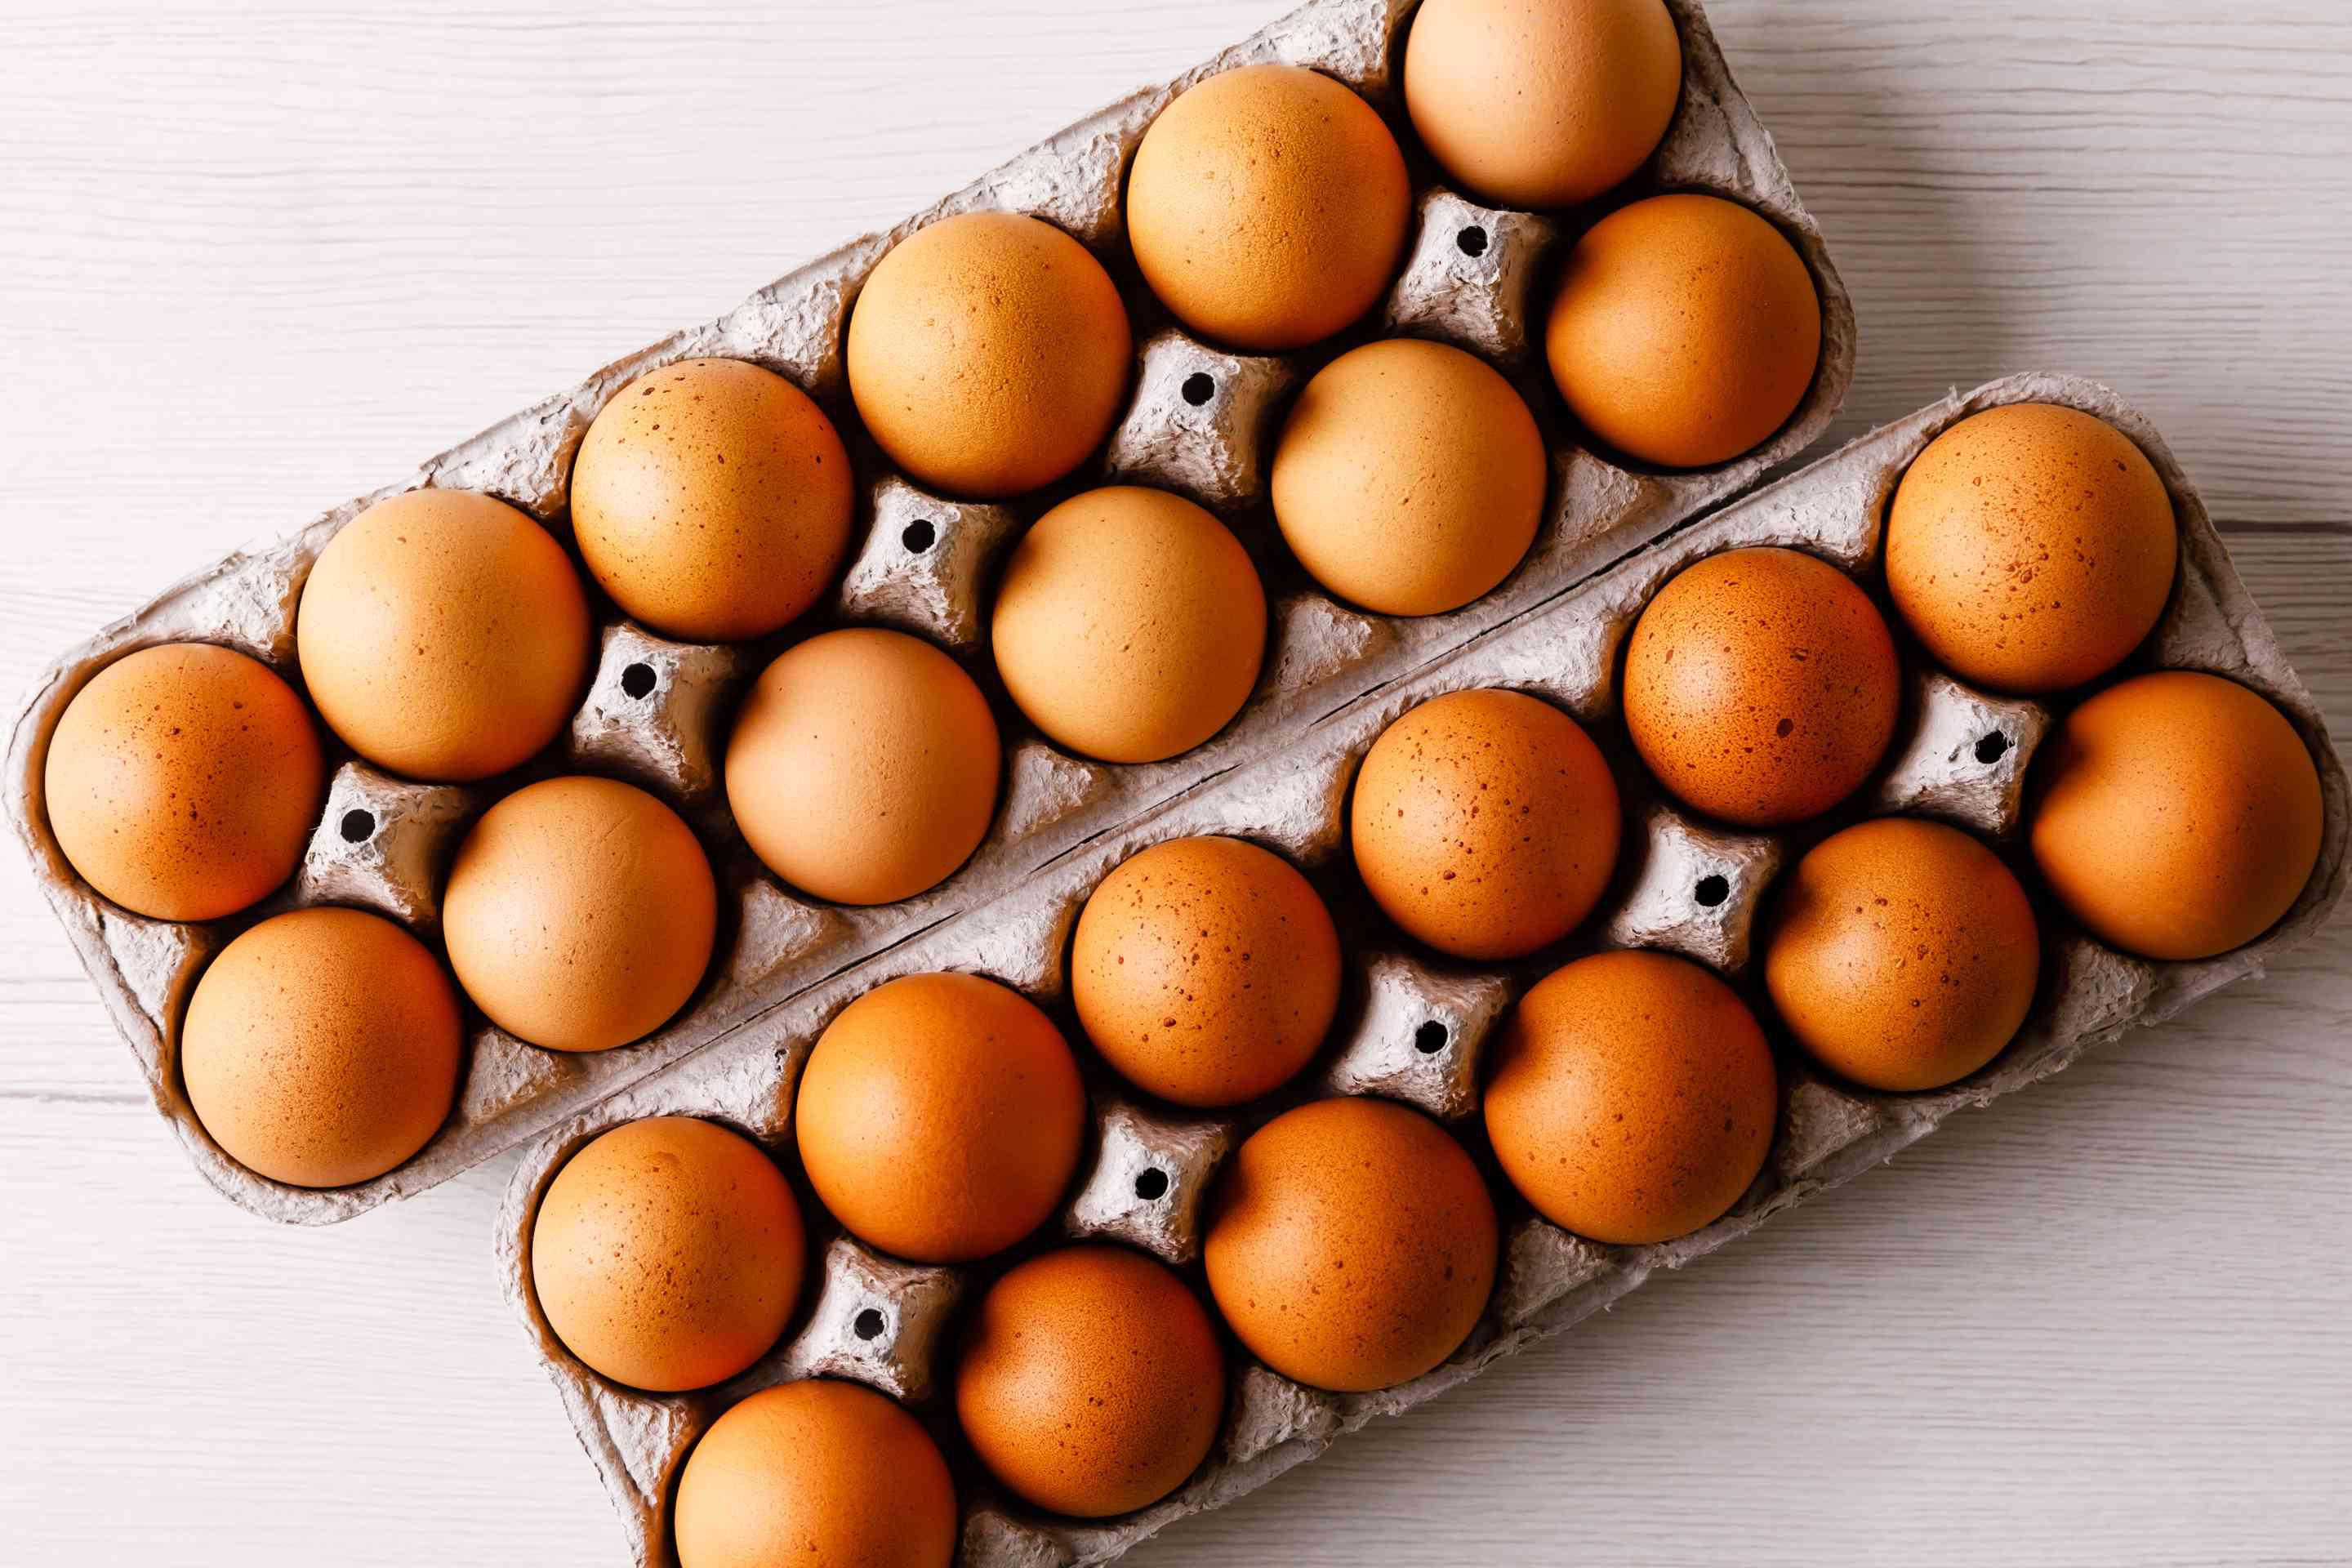egg: (154, 878, 478, 1207), (399, 747, 723, 1066), (1106, 47, 1433, 362), (290, 469, 604, 798), (500, 1101, 828, 1412), (2016, 647, 2329, 971), (775, 961, 1094, 1277), (1192, 1087, 1503, 1407), (686, 611, 1010, 915), (1598, 535, 1914, 845), (1475, 941, 1792, 1249), (555, 343, 871, 651), (16, 625, 332, 927), (1871, 392, 2182, 698), (1255, 318, 1559, 626), (1755, 796, 2049, 1108), (836, 203, 1137, 506), (1542, 171, 1830, 485), (975, 471, 1274, 772), (933, 1227, 1227, 1531), (1052, 824, 1346, 1120), (1335, 679, 1629, 968), (654, 1367, 961, 1568), (1395, 0, 1692, 187)
